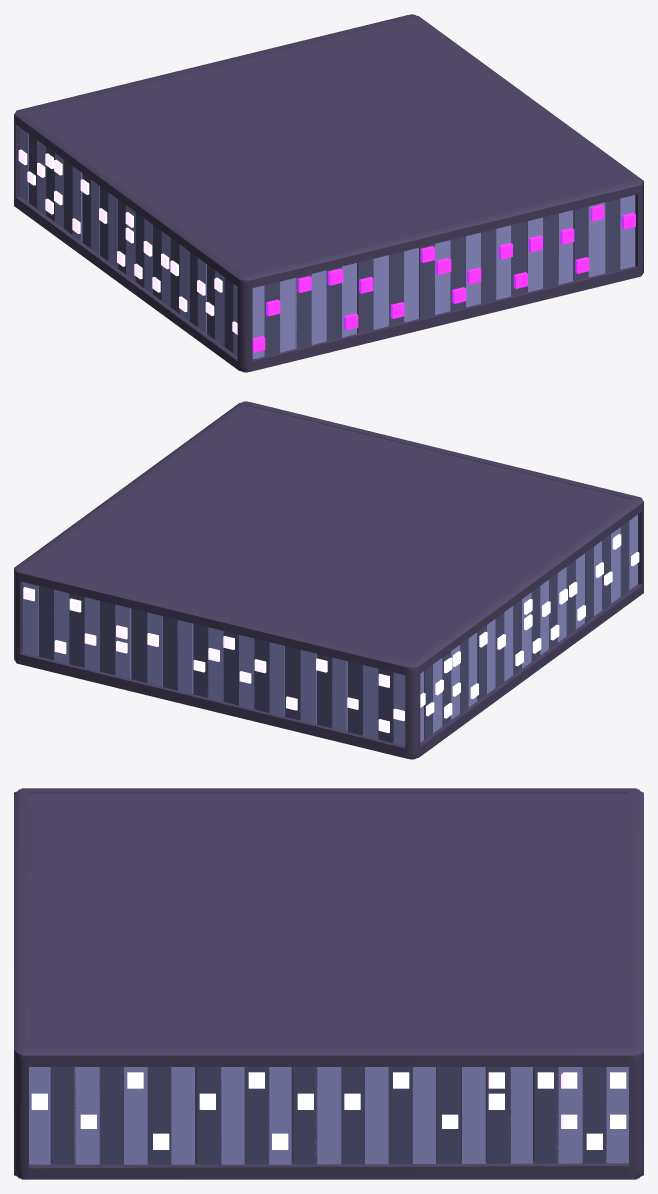
File: compressed_RoofExtension.glb
The picture shows the model from 3 angles, top to bottom: view 1: azimuth 30°, elevation 25°; view 2: azimuth 150°, elevation 25°; view 3: azimuth 270°, elevation 25°; orthographic projection. The views are drawn at different scales.
Parts seen in each view (by area): view 1: RoofExtension1, RoofExtension, tile, tile.001, Tile1, tile.002, RoofTiles1, RoofTiles2; view 2: RoofExtension1, RoofExtension, Tiles2, Tile1.001, Tile1, tile.002, RoofTiles3, RoofTiles2; view 3: RoofExtension1, RoofExtension, tile.007, tile.006, RoofTiles4.
Boxes of the visible parts, box(x1,y1,x2,y2) form: RoofExtension1: box(26, 18, 631, 333); RoofExtension: box(14, 14, 643, 372); tile: box(252, 195, 635, 359); tile.001: box(264, 198, 619, 356); Tile1: box(20, 127, 237, 356); tile.002: box(28, 134, 233, 353); RoofTiles1: box(252, 204, 635, 352); RoofTiles2: box(18, 149, 237, 334); RoofExtension1: box(26, 405, 631, 677); RoofExtension: box(14, 401, 643, 759); Tiles2: box(22, 582, 405, 745); Tile1.001: box(38, 586, 393, 742); Tile1: box(420, 514, 637, 742); tile.002: box(424, 521, 629, 739); RoofTiles3: box(23, 587, 404, 733); RoofTiles2: box(420, 534, 639, 718); RoofExtension1: box(29, 793, 628, 1163); RoofExtension: box(14, 788, 643, 1179); tile.007: box(29, 1067, 628, 1164); tile.006: box(51, 1067, 606, 1164); RoofTiles4: box(31, 1072, 626, 1149).
Size of the model in its own units: 7.31 by 1.65 by 7.29.
